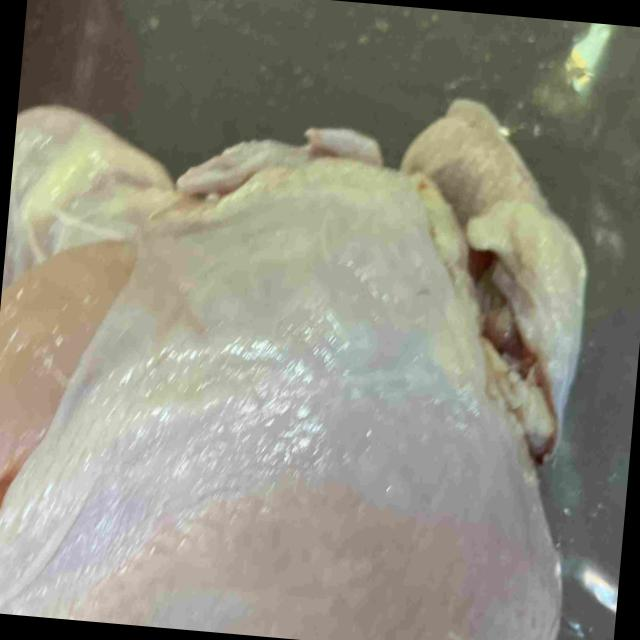breast: (0, 175, 552, 640)
leg: (2, 113, 173, 288)
neck: (404, 88, 583, 460)
